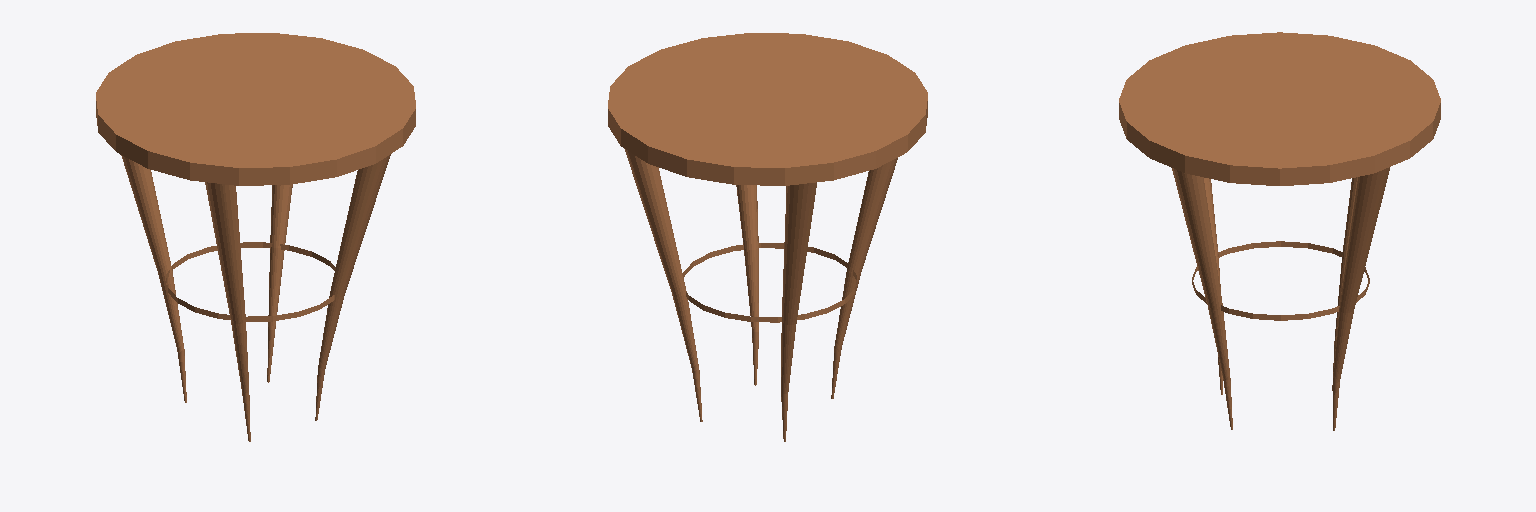
3 views of the same model, side by side, from view 1: azimuth 30°, elevation 25°; view 2: azimuth 150°, elevation 25°; view 3: azimuth 270°, elevation 25° (orthographic).
Parts seen in each view (by area): view 1: group_pasted__pCylinder2_pasted__polySurface4; view 2: group_pasted__pCylinder2_pasted__polySurface4; view 3: group_pasted__pCylinder2_pasted__polySurface4.
Boxes of the visible parts, x1=… form: group_pasted__pCylinder2_pasted__polySurface4: x1=96, y1=33, x2=415, y2=441; group_pasted__pCylinder2_pasted__polySurface4: x1=608, y1=33, x2=927, y2=441; group_pasted__pCylinder2_pasted__polySurface4: x1=1119, y1=32, x2=1440, y2=430.
Bounding box in the file's own units: 1.96 × 2.08 × 1.96.
Materials: 4 (1 with a texture image).